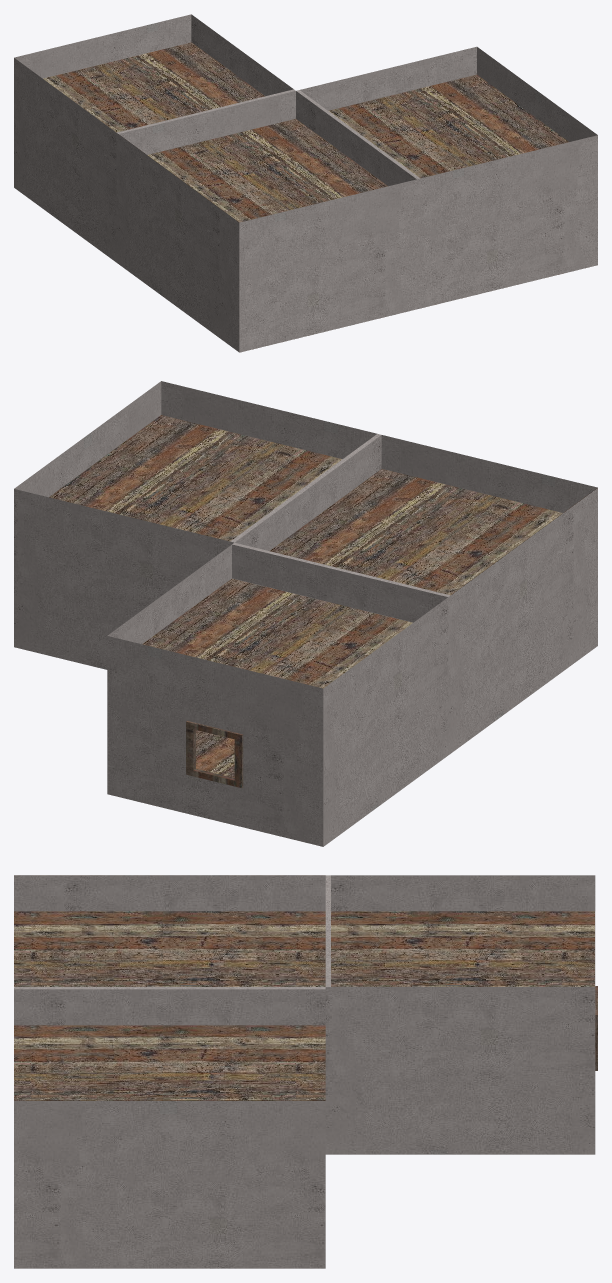
File: room_small.glb
3 views of the same model, one above another, from view 1: azimuth 30°, elevation 25°; view 2: azimuth 150°, elevation 25°; view 3: azimuth 270°, elevation 25° (orthographic). The views are drawn at different scales.
Parts seen in each view (by area): view 1: Plane; view 2: Plane, Cube; view 3: Plane.
Part boxes in pixels (box(x1,y1,x2,y2)): Plane: box(14, 14, 597, 352); Plane: box(14, 381, 597, 846); Cube: box(186, 720, 243, 787); Plane: box(14, 875, 595, 1268).
Size of the model in its own units: 10.1 by 3.5 by 11.05.
Materials: 2 (2 with a texture image).
